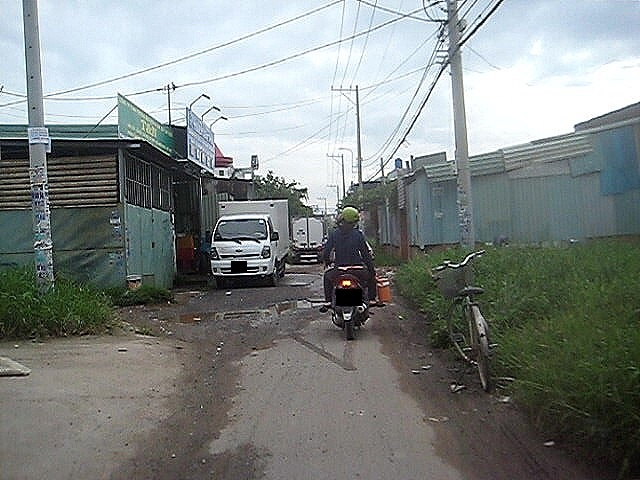hole: (157, 310, 265, 324), (268, 297, 317, 311)
